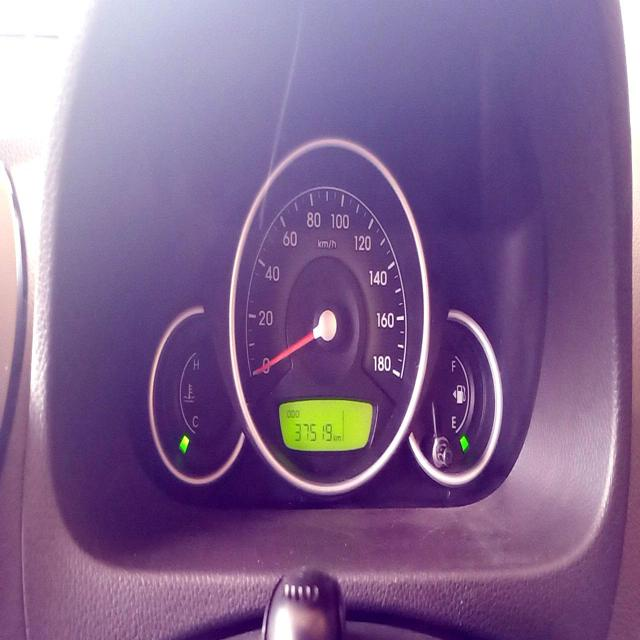odometer: (292, 417, 334, 444)
